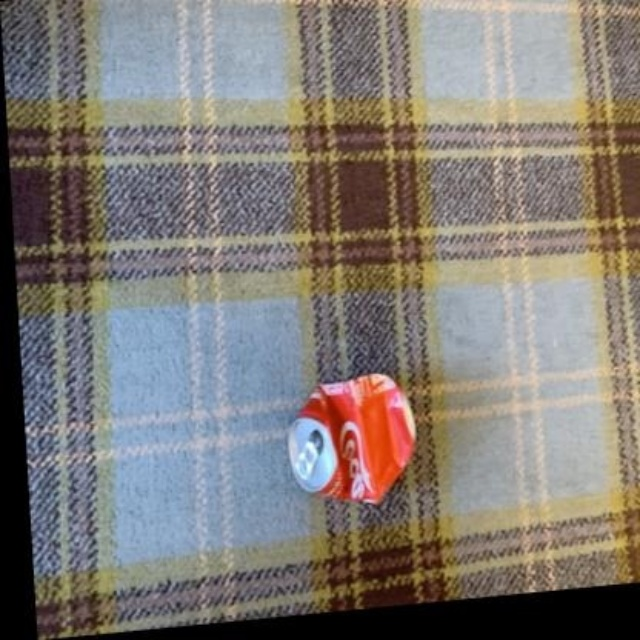trash: (288, 374, 414, 502)
